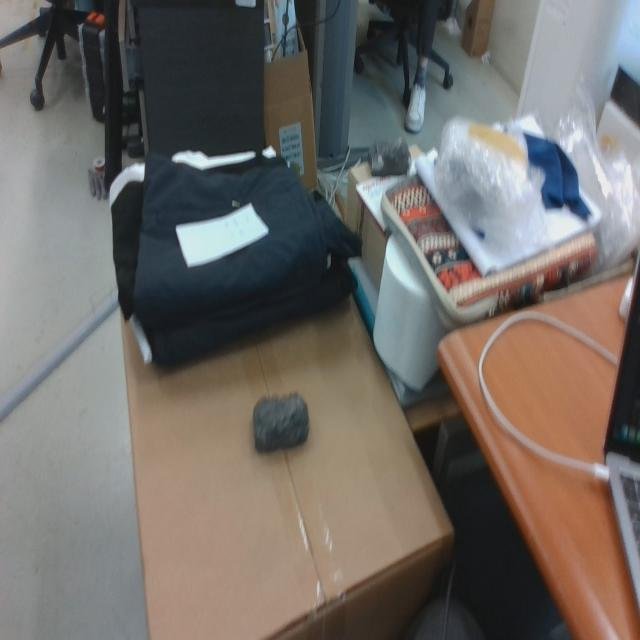stone: (252, 391, 310, 455)
